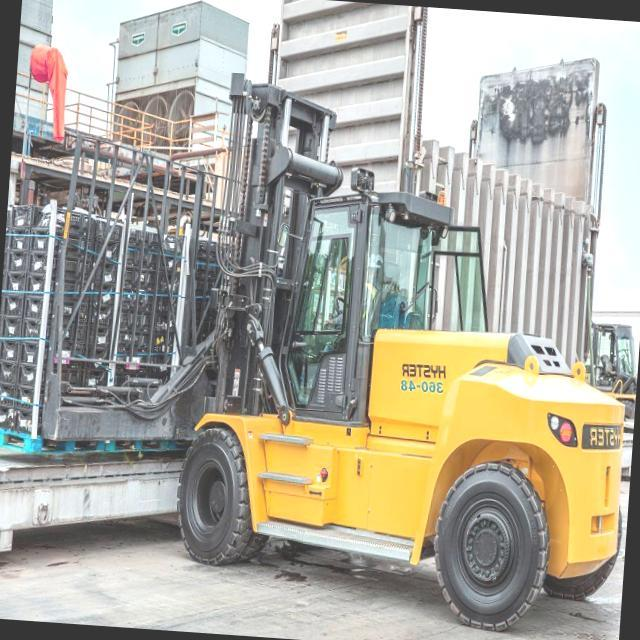forklift: (166, 69, 640, 618)
